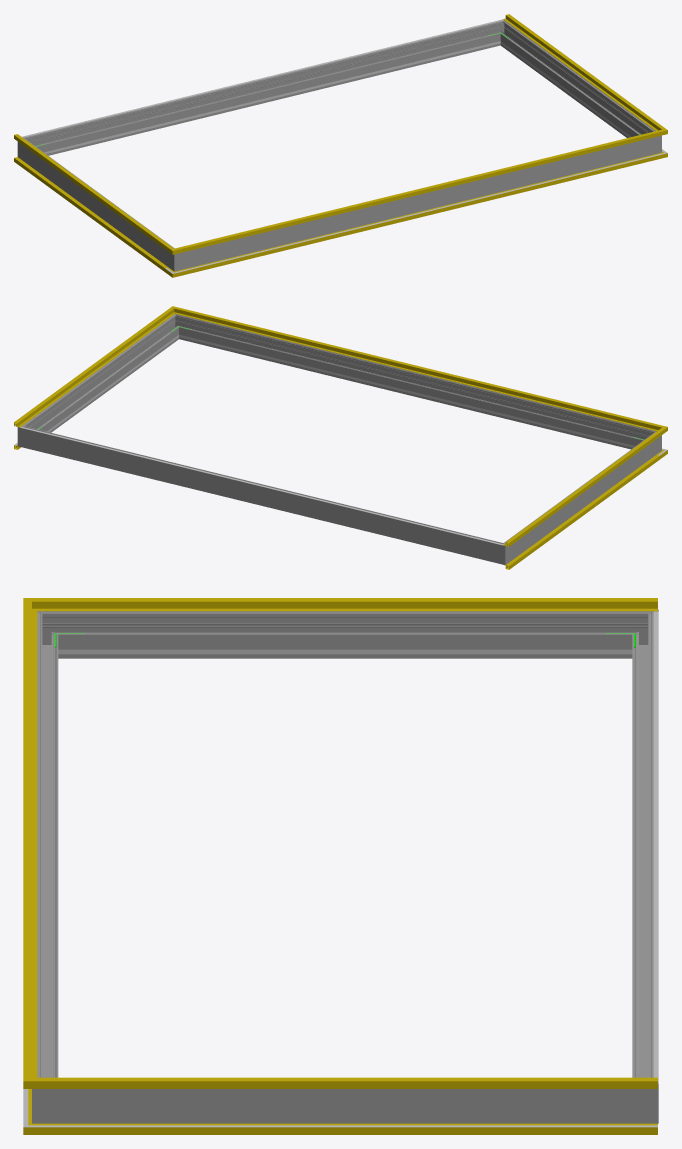
The picture shows the model from 3 angles, top to bottom: view 1: azimuth 30°, elevation 25°; view 2: azimuth 150°, elevation 25°; view 3: azimuth 270°, elevation 25°; orthographic projection. The views are drawn at different scales.
Parts seen in each view (by area): view 1: 3DGeom-276, 3DGeom-298, 3DGeom-297, 3DGeom-123, 3DGeom-11, 3DGeom-268, 3DGeom-128, 3DGeom-244, 3DGeom-118, 3DGeom-6, 3DGeom-220, 3DGeom-20 (+1 smaller); view 2: 3DGeom-298, 3DGeom-276, 3DGeom-297, 3DGeom-123, 3DGeom-268, 3DGeom-128, 3DGeom-239, 3DGeom-118, 3DGeom-6, 3DGeom-220, 3DGeom-278, 3DGeom-25; view 3: 3DGeom-268, 3DGeom-297, 3DGeom-298, 3DGeom-276, 3DGeom-118, 3DGeom-128, 3DGeom-123, 3DGeom-16, 3DGeom-232, 3DGeom-220, 3DGeom-18, 3DGeom-284 (+3 smaller).
Part boxes in pixels (box(x1,y1,x2,y2)): 3DGeom-276: box(32, 23, 498, 155); 3DGeom-298: box(188, 139, 648, 267); 3DGeom-297: box(502, 25, 651, 137); 3DGeom-123: box(184, 132, 654, 251); 3DGeom-11: box(184, 155, 654, 274); 3DGeom-268: box(25, 142, 170, 265); 3DGeom-128: box(503, 14, 659, 129); 3DGeom-244: box(49, 44, 487, 153); 3DGeom-118: box(14, 134, 167, 248); 3DGeom-6: box(14, 157, 167, 271); 3DGeom-220: box(22, 19, 503, 137); 3DGeom-20: box(185, 155, 653, 270); 3DGeom-298: box(181, 317, 646, 449); 3DGeom-276: box(31, 428, 493, 561); 3DGeom-297: box(27, 319, 177, 432); 3DGeom-123: box(183, 309, 653, 429); 3DGeom-268: box(509, 436, 654, 558); 3DGeom-128: box(14, 312, 170, 427); 3DGeom-239: box(192, 338, 630, 446); 3DGeom-118: box(503, 432, 659, 546); 3DGeom-6: box(505, 455, 659, 569); 3DGeom-220: box(20, 426, 503, 545); 3DGeom-278: box(491, 539, 513, 565); 3DGeom-25: box(507, 455, 659, 565); 3DGeom-268: box(63, 611, 626, 658); 3DGeom-297: box(63, 1089, 626, 1123); 3DGeom-298: box(37, 622, 58, 1077); 3DGeom-276: box(632, 622, 653, 1077); 3DGeom-118: box(55, 598, 657, 611); 3DGeom-128: box(55, 1077, 657, 1088); 3DGeom-123: box(23, 611, 37, 1074); 3DGeom-16: box(55, 1123, 657, 1134); 3DGeom-232: box(89, 649, 601, 654); 3DGeom-220: box(653, 611, 658, 1083); 3DGeom-18: box(55, 1125, 657, 1127); 3DGeom-284: box(627, 1072, 658, 1123).
Size of the model in its own units: 5.49 by 0.2836 by 3.05.
